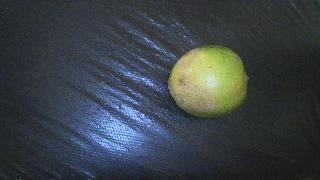DESECHO: (168, 45, 249, 118)
